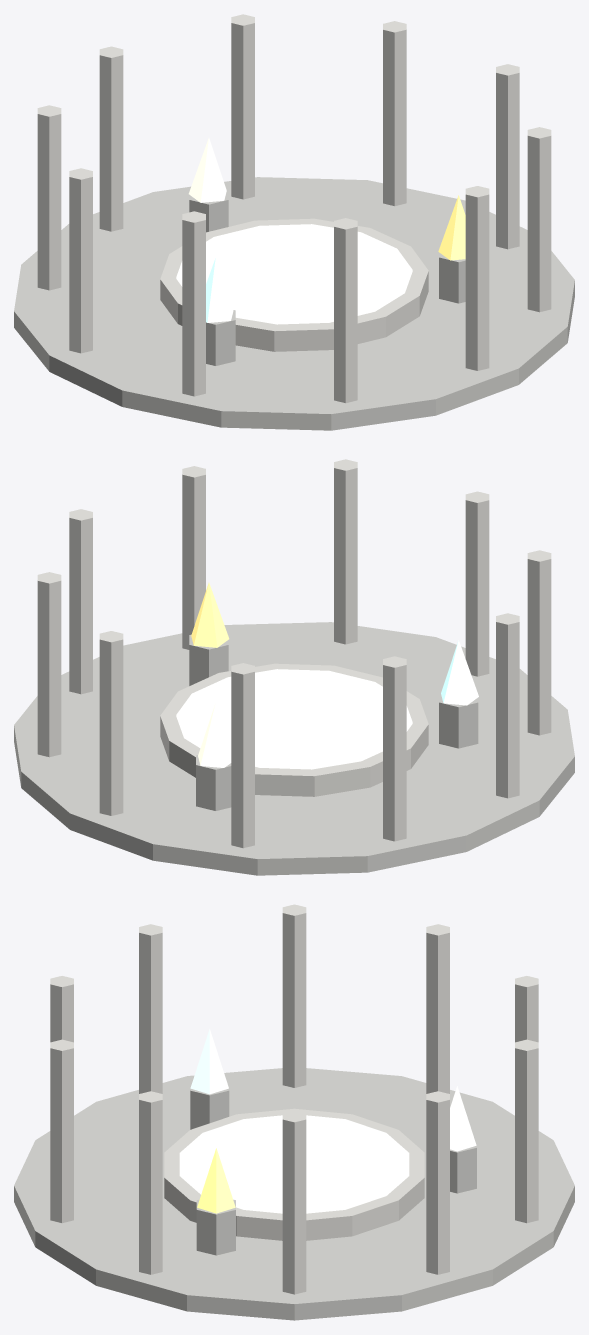
3 views of the same model, one above another, from view 1: azimuth 30°, elevation 25°; view 2: azimuth 150°, elevation 25°; view 3: azimuth 270°, elevation 25° (orthographic).
Visible parts, largest first — view 1: body; view 2: body; view 3: body.
Boxes of the visible parts, x1=… form: body: x1=14, y1=14, x2=574, y2=430; body: x1=14, y1=459, x2=574, y2=875; body: x1=14, y1=904, x2=574, y2=1320.
Size of the model in its own units: 12.4 by 4.6 by 12.4.
